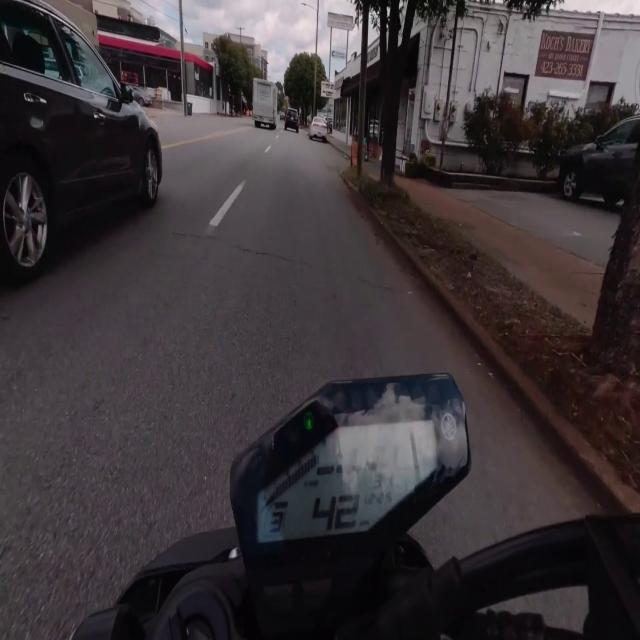car: (0, 0, 162, 281), (309, 117, 327, 142), (130, 86, 152, 106), (284, 108, 299, 132), (279, 112, 284, 120)
motorcycle: (72, 375, 639, 639)
